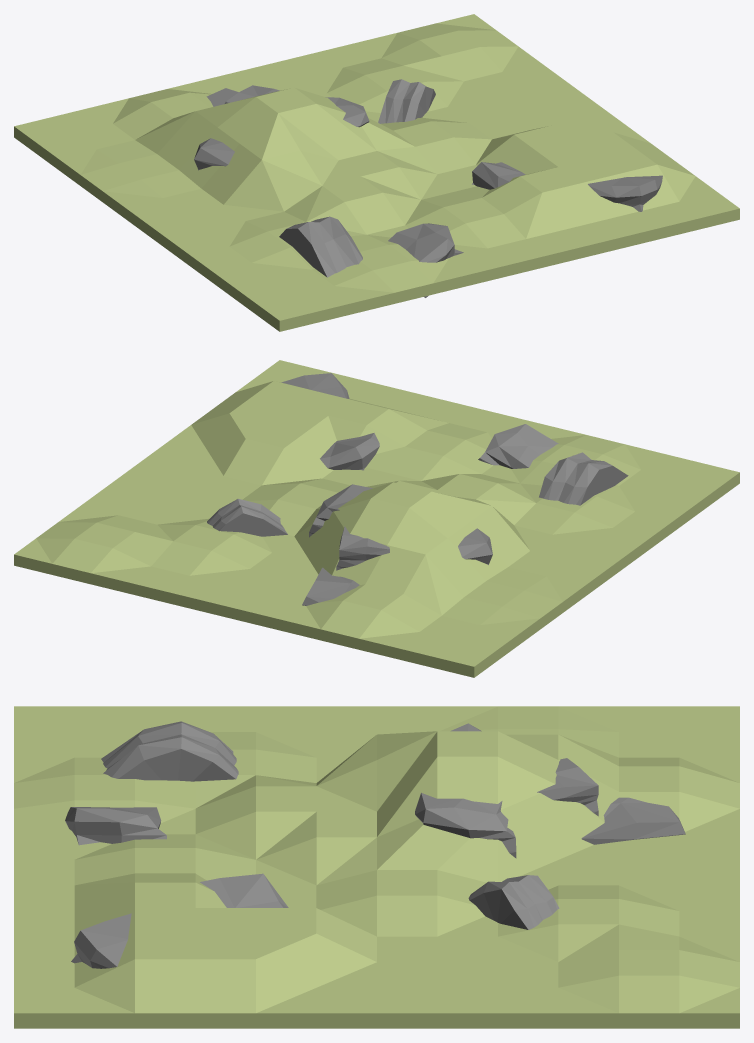
Rendered from Rock I.fbx.
3 views of the same model, one above another, from view 1: azimuth 30°, elevation 25°; view 2: azimuth 150°, elevation 25°; view 3: azimuth 270°, elevation 25° (orthographic). The views are drawn at different scales.
Parts seen in each view (by area): view 1: Rock I; view 2: Rock I; view 3: Rock I.
Part boxes in pixels (bbox=[...]): Rock I: bbox=[14, 14, 739, 331]; Rock I: bbox=[14, 360, 739, 677]; Rock I: bbox=[14, 706, 739, 1028].
Size of the model in its own units: 1600 by 405 by 1600.
